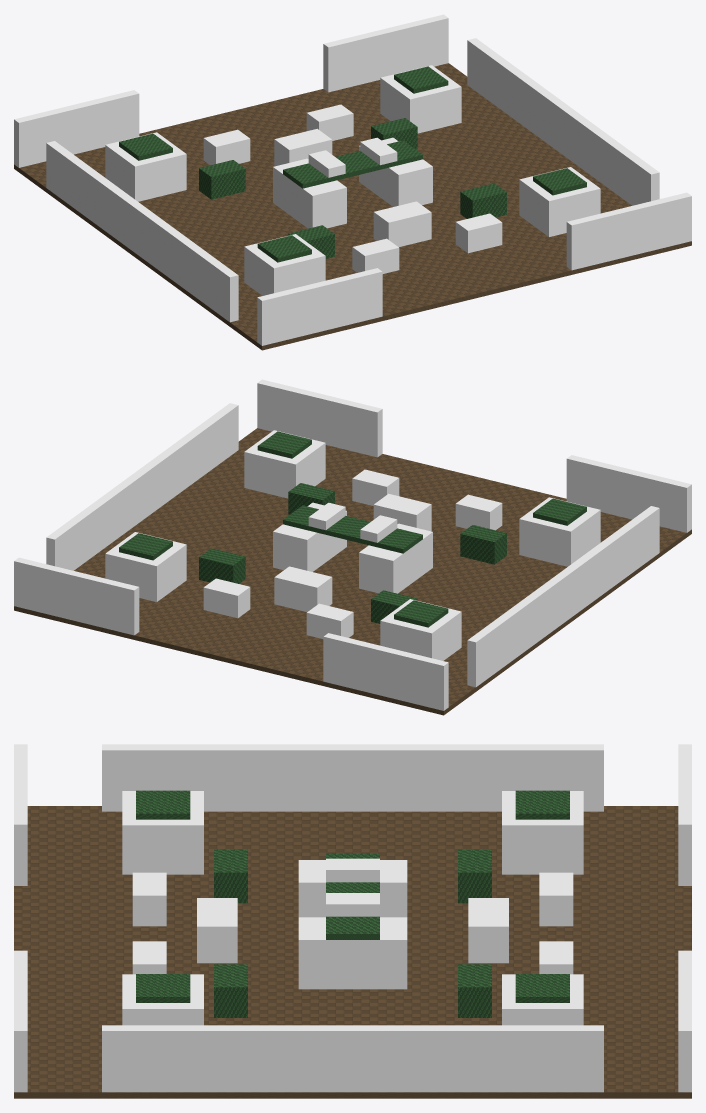
Rendered from fps_stage02.gltf.
3 views of the same model, one above another, from view 1: azimuth 30°, elevation 25°; view 2: azimuth 150°, elevation 25°; view 3: azimuth 270°, elevation 25° (orthographic). The views are drawn at different scales.
Visible parts, largest first — view 1: Floor, WestWall_M, EastWall_M, SouthWall_L, SouthWall_R, NorthWall_R, NorthWall_L, TowerBase_L_N, TowerBase_R_N, TowerBase_R_S, BridgePylon_W, TowerBase_L_S (+18 smaller); view 2: Floor, WestWall_M, EastWall_M, NorthWall_L, NorthWall_R, SouthWall_R, SouthWall_L, TowerBase_L_S, TowerBase_R_S, TowerBase_R_N, BridgePylon_W, TowerBase_L_N (+18 smaller); view 3: Floor, EastWall_M, WestWall_M, BridgePylon_E, TowerBase_L_N, TowerBase_L_S, BridgePylon_W, CenterBlock_N, CenterBlock_S, TowerBase_R_N, TowerBase_R_S, BridgeDeck (+18 smaller).
Part boxes in pixels (bbox=[...]): Floor: bbox=[14, 63, 691, 350]; WestWall_M: bbox=[46, 141, 238, 322]; EastWall_M: bbox=[467, 38, 659, 205]; SouthWall_L: bbox=[257, 268, 382, 345]; SouthWall_R: bbox=[566, 192, 691, 270]; NorthWall_R: bbox=[323, 14, 448, 92]; NorthWall_L: bbox=[14, 90, 139, 167]; TowerBase_L_N: bbox=[105, 132, 186, 201]; TowerBase_R_N: bbox=[380, 65, 461, 133]; TowerBase_R_S: bbox=[519, 167, 600, 236]; BridgePylon_W: bbox=[273, 158, 346, 228]; TowerBase_L_S: bbox=[244, 234, 325, 295]; Floor: bbox=[14, 428, 691, 715]; WestWall_M: bbox=[467, 506, 659, 687]; EastWall_M: bbox=[46, 403, 238, 570]; NorthWall_L: bbox=[323, 633, 448, 710]; NorthWall_R: bbox=[14, 557, 139, 635]; SouthWall_R: bbox=[257, 379, 382, 457]; SouthWall_L: bbox=[566, 455, 691, 532]; TowerBase_L_S: bbox=[519, 497, 600, 566]; TowerBase_R_S: bbox=[244, 430, 325, 498]; TowerBase_R_N: bbox=[105, 532, 186, 601]; BridgePylon_W: bbox=[359, 523, 432, 593]; TowerBase_L_N: bbox=[380, 599, 461, 660]; Floor: bbox=[14, 806, 691, 1098]; EastWall_M: bbox=[102, 1025, 603, 1092]; WestWall_M: bbox=[102, 744, 603, 811]; BridgePylon_E: bbox=[298, 917, 407, 989]; TowerBase_L_N: bbox=[502, 791, 583, 874]; TowerBase_L_S: bbox=[122, 791, 203, 874]; BridgePylon_W: bbox=[298, 860, 407, 917]; CenterBlock_N: bbox=[468, 898, 508, 963]; CenterBlock_S: bbox=[197, 898, 237, 963]; TowerBase_R_N: bbox=[502, 974, 583, 1025]; TowerBase_R_S: bbox=[122, 974, 203, 1025]; BridgeDeck: bbox=[326, 853, 379, 939].
Bounding box in the file's own units: 100 × 12 × 100.
